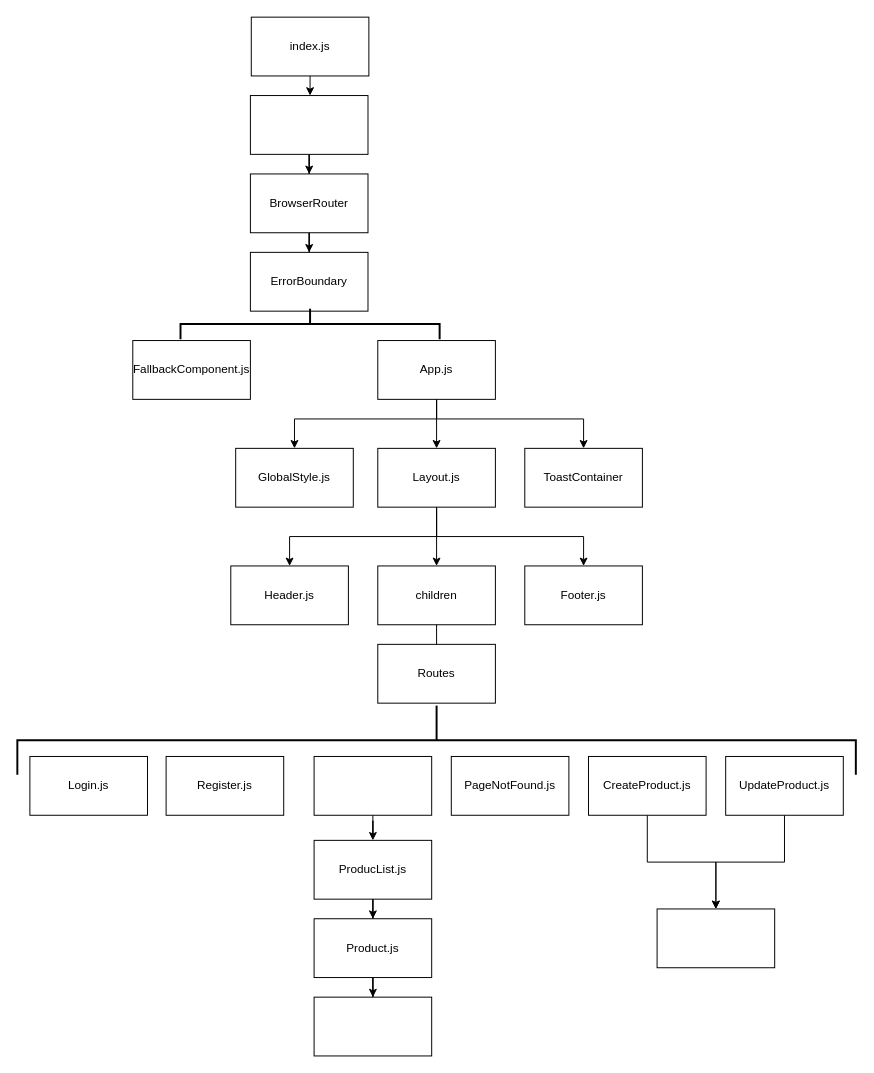
This 874x1073 diagram has some shape labels left out. Each missing label, with the box of its shape:
ConfirmModal.js: (313, 996, 432, 1056)
Home.js: (313, 755, 432, 815)
ProductForm.js: (656, 908, 775, 968)
ThemeContext + Redux Provider: (249, 95, 368, 154)
